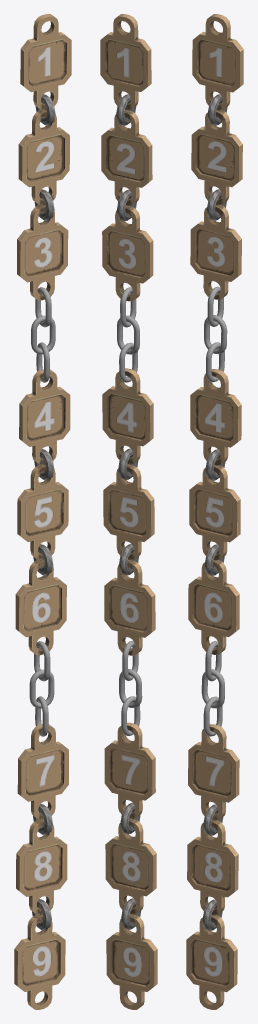
File: lines.glb
3 views of the same model, side by side, from view 1: azimuth 30°, elevation 25°; view 2: azimuth 150°, elevation 25°; view 3: azimuth 330°, elevation 25° (orthographic).
Parts seen in each view (by area): view 1: chain, lines_1, lines_9, lines_4, lines_6, lines_7, lines_5, lines_2, lines_8, lines_3; view 2: chain, lines_1, lines_9, lines_4, lines_6, lines_7, lines_3, lines_5, lines_2, lines_8; view 3: chain, lines_1, lines_9, lines_7, lines_4, lines_6, lines_3, lines_8, lines_2, lines_5.
Boxes of the visible parts, left/top/right/bottom form: chain: left=29, top=94, right=55, bottom=930; lines_1: left=20, top=14, right=71, bottom=109; lines_9: left=14, top=914, right=65, bottom=1009; lines_4: left=19, top=369, right=70, bottom=464; lines_6: left=15, top=559, right=66, bottom=655; lines_7: left=17, top=724, right=68, bottom=819; lines_5: left=17, top=464, right=68, bottom=559; lines_2: left=18, top=110, right=69, bottom=205; lines_8: left=16, top=819, right=67, bottom=914; lines_3: left=17, top=205, right=68, bottom=300; chain: left=116, top=94, right=142, bottom=929; lines_1: left=100, top=14, right=151, bottom=109; lines_9: left=106, top=914, right=157, bottom=1009; lines_4: left=102, top=368, right=153, bottom=464; lines_6: left=104, top=559, right=155, bottom=655; lines_7: left=104, top=722, right=155, bottom=818; lines_3: left=102, top=205, right=153, bottom=301; lines_5: left=103, top=464, right=154, bottom=559; lines_2: left=101, top=109, right=152, bottom=205; lines_8: left=105, top=818, right=156, bottom=914; chain: left=201, top=94, right=227, bottom=930; lines_1: left=192, top=14, right=243, bottom=110; lines_9: left=186, top=915, right=237, bottom=1009; lines_7: left=188, top=724, right=239, bottom=820; lines_4: left=190, top=369, right=241, bottom=465; lines_6: left=188, top=560, right=239, bottom=654; lines_3: left=190, top=204, right=241, bottom=299; lines_8: left=187, top=820, right=238, bottom=915; lines_2: left=191, top=110, right=242, bottom=204; lines_5: left=189, top=465, right=240, bottom=559.
Bounding box in the file's own units: 0.1418 × 2.49 × 0.0783.
10 materials, 10 textured.
